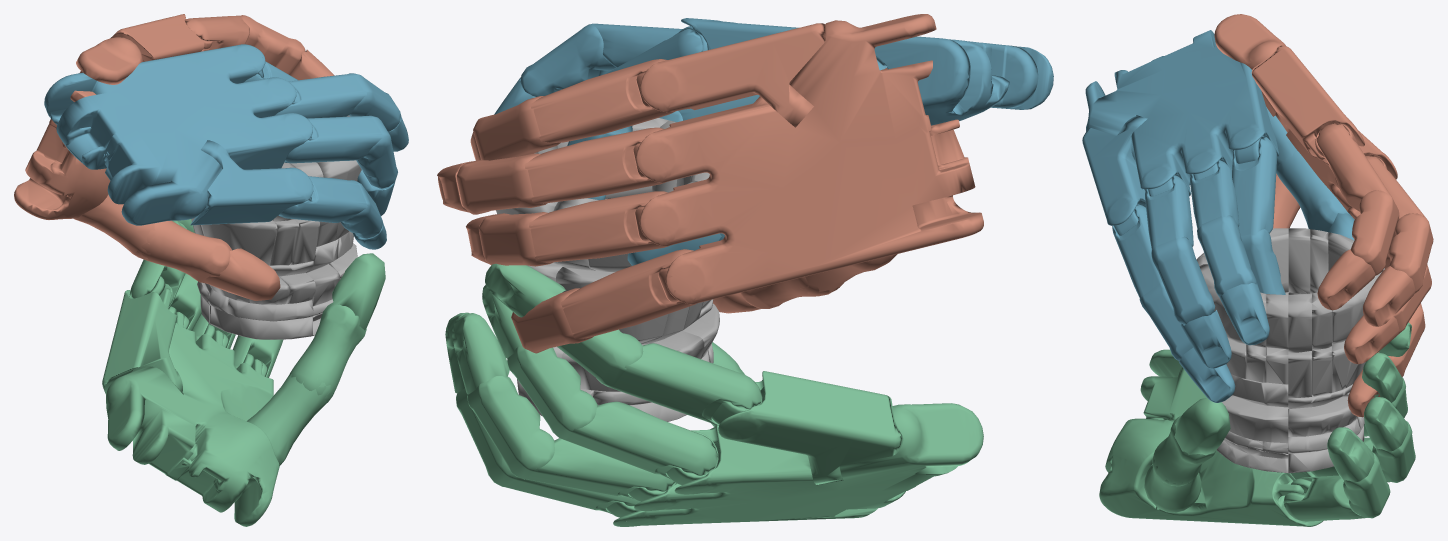
3 renders of one model, left to right at view 1: azimuth 30°, elevation 25°; view 2: azimuth 150°, elevation 25°; view 3: azimuth 270°, elevation 25°, orthographic. The views are drawn at different scales.
Bounding box in the file's own units: 0.2 × 0.2254 × 0.1585.
